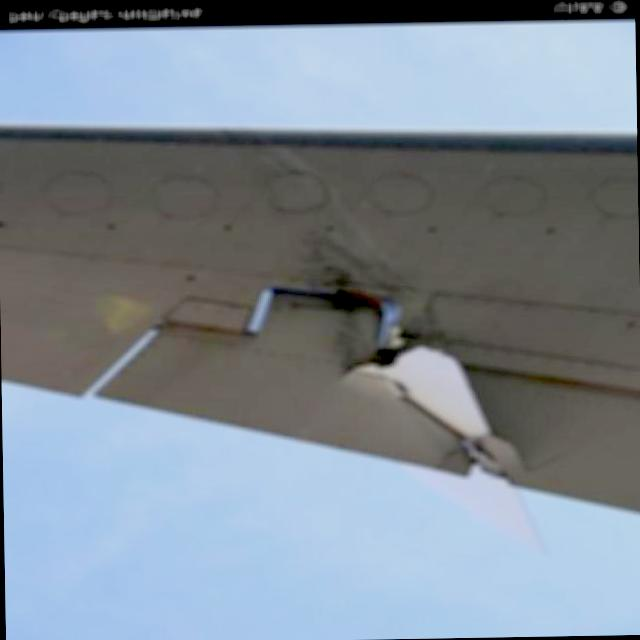crack: (340, 338, 556, 484)
